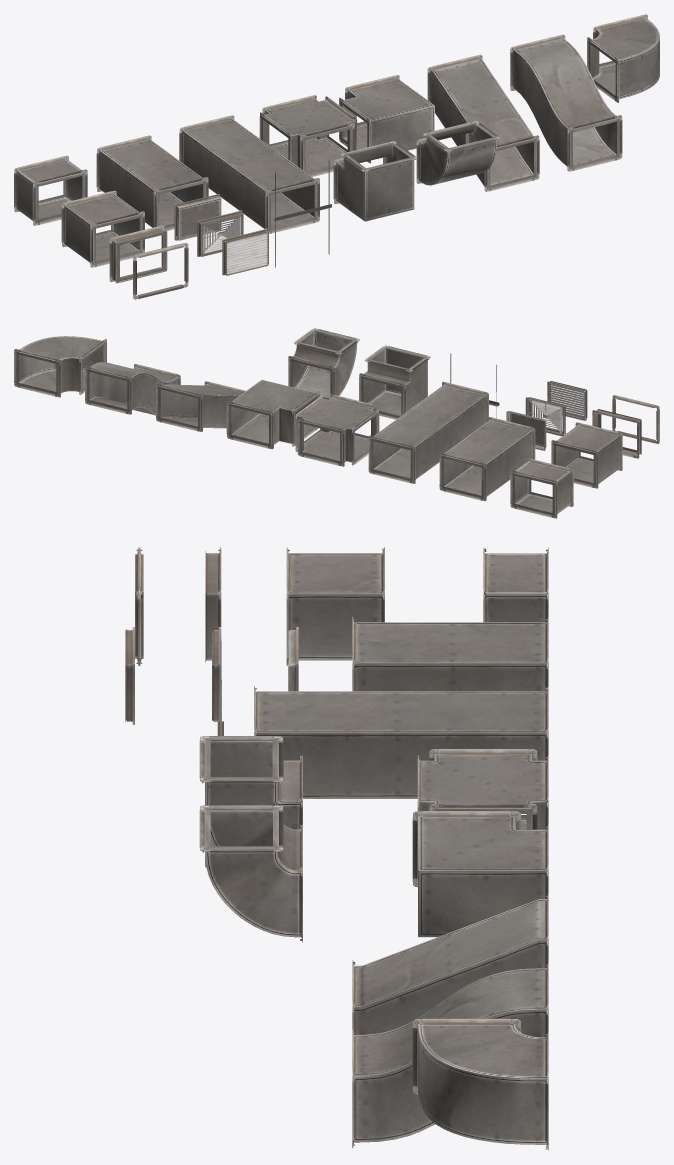
Rendered from modular_airduct_rectangular_01.glb.
3 views of the same model, one above another, from view 1: azimuth 30°, elevation 25°; view 2: azimuth 150°, elevation 25°; view 3: azimuth 270°, elevation 25° (orthographic). The views are drawn at different scales.
Parts seen in each view (by area): view 1: modular_airduct_rectangular_01_transition_double_02, modular_airduct_rectangular_01_tripple_01, modular_airduct_rectangular_01_transition_double_01, modular_airduct_rectangular_01_double_01, modular_airduct_rectangular_01_splitter_01, modular_airduct_rectangular_01_corner_01, modular_airduct_rectangular_01_corner_02, modular_airduct_rectangular_01_bend_02, modular_airduct_rectangular_01_single_01, modular_airduct_rectangular_01_bend_01, modular_airduct_rectangular_01_half_01, modular_airduct_rectangular_01_vent_01 (+4 smaller); view 2: modular_airduct_rectangular_01_tripple_01, modular_airduct_rectangular_01_double_01, modular_airduct_rectangular_01_splitter_01, modular_airduct_rectangular_01_corner_02, modular_airduct_rectangular_01_bend_02, modular_airduct_rectangular_01_corner_01, modular_airduct_rectangular_01_bend_01, modular_airduct_rectangular_01_transition_double_02, modular_airduct_rectangular_01_single_01, modular_airduct_rectangular_01_transition_double_01, modular_airduct_rectangular_01_half_01, modular_airduct_rectangular_01_vent_01 (+4 smaller); view 3: modular_airduct_rectangular_01_tripple_01, modular_airduct_rectangular_01_bend_02, modular_airduct_rectangular_01_corner_02, modular_airduct_rectangular_01_double_01, modular_airduct_rectangular_01_transition_double_01, modular_airduct_rectangular_01_transition_double_02, modular_airduct_rectangular_01_bend_01, modular_airduct_rectangular_01_single_01, modular_airduct_rectangular_01_splitter_01, modular_airduct_rectangular_01_corner_01, modular_airduct_rectangular_01_half_01, modular_airduct_rectangular_01_connector_01 (+2 smaller).
Boxes of the visible parts, box(x1,y1,x2,y2) form: modular_airduct_rectangular_01_transition_double_02: box(510, 34, 622, 171); modular_airduct_rectangular_01_tripple_01: box(179, 115, 319, 233); modular_airduct_rectangular_01_transition_double_01: box(427, 54, 539, 191); modular_airduct_rectangular_01_double_01: box(96, 135, 208, 230); modular_airduct_rectangular_01_splitter_01: box(259, 95, 357, 176); modular_airduct_rectangular_01_corner_01: box(333, 141, 417, 221); modular_airduct_rectangular_01_corner_02: box(339, 75, 434, 163); modular_airduct_rectangular_01_bend_02: box(587, 14, 659, 102); modular_airduct_rectangular_01_single_01: box(61, 190, 144, 267); modular_airduct_rectangular_01_bend_01: box(416, 121, 500, 185); modular_airduct_rectangular_01_half_01: box(14, 155, 87, 225); modular_airduct_rectangular_01_vent_01: box(222, 229, 268, 275); modular_airduct_rectangular_01_tripple_01: box(368, 381, 488, 483); modular_airduct_rectangular_01_double_01: box(439, 417, 535, 501); modular_airduct_rectangular_01_splitter_01: box(295, 394, 379, 466); modular_airduct_rectangular_01_corner_02: box(226, 380, 319, 449); modular_airduct_rectangular_01_bend_02: box(14, 336, 106, 397); modular_airduct_rectangular_01_corner_01: box(359, 345, 430, 419); modular_airduct_rectangular_01_bend_01: box(288, 328, 359, 399); modular_airduct_rectangular_01_transition_double_02: box(85, 362, 180, 415); modular_airduct_rectangular_01_single_01: box(551, 422, 622, 488); modular_airduct_rectangular_01_transition_double_01: box(156, 381, 245, 431); modular_airduct_rectangular_01_half_01: box(510, 458, 573, 518); modular_airduct_rectangular_01_vent_01: box(547, 381, 587, 421); modular_airduct_rectangular_01_tripple_01: box(254, 686, 548, 798); modular_airduct_rectangular_01_bend_02: box(412, 1018, 548, 1150); modular_airduct_rectangular_01_corner_02: box(412, 811, 548, 937); modular_airduct_rectangular_01_double_01: box(352, 617, 548, 691); modular_airduct_rectangular_01_transition_double_01: box(352, 893, 548, 1034); modular_airduct_rectangular_01_transition_double_02: box(352, 963, 548, 1147); modular_airduct_rectangular_01_bend_01: box(199, 805, 302, 942); modular_airduct_rectangular_01_single_01: box(286, 547, 384, 665); modular_airduct_rectangular_01_splitter_01: box(417, 749, 548, 829); modular_airduct_rectangular_01_corner_01: box(199, 736, 302, 867); modular_airduct_rectangular_01_half_01: box(483, 547, 548, 622); modular_airduct_rectangular_01_connector_01: box(205, 547, 221, 662).
Size of the model in its own units: 7.66 by 1.26 by 2.59.
2 materials, 2 textured.
